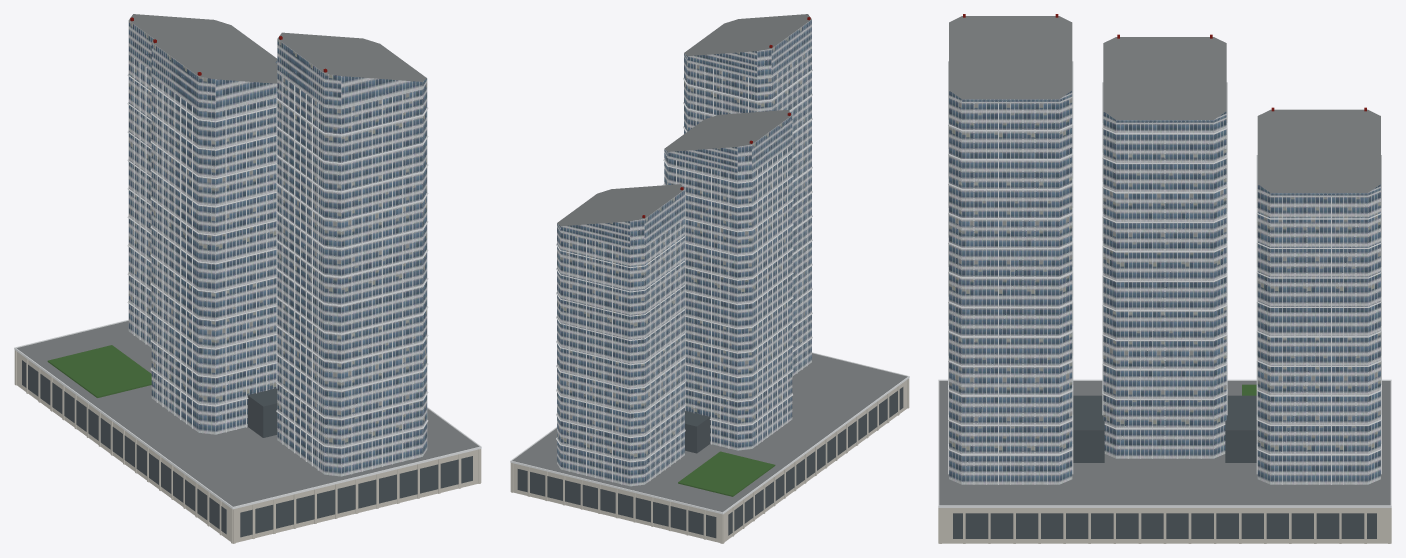
The model's file is harumi_triton.glb.
3 views of the same model, side by side, from view 1: azimuth 30°, elevation 25°; view 2: azimuth 150°, elevation 25°; view 3: azimuth 270°, elevation 25° (orthographic). The views are drawn at different scales.
Parts seen in each view (by area): view 1: harumi_triton; view 2: harumi_triton; view 3: harumi_triton.
Boxes of the visible parts, x1,y1,x2,y2 form: harumi_triton: (14,14,481,543); harumi_triton: (510,14,909,543); harumi_triton: (938,14,1391,543).
Bounding box in the file's own units: 116 × 195 × 176.
Materials: 2 (2 with a texture image).
